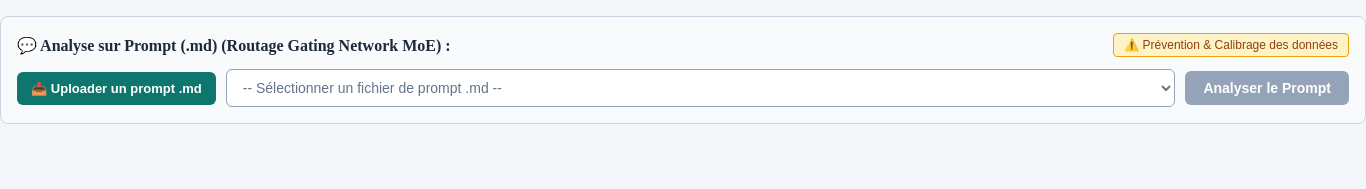
Test: PromptAnalyzer Component › toggles data quality warning alert when prevention button is clicked
Click the button "⚠️ Prévention & Calibrage des données": coordinates (1231, 45) x1=1113 y1=33 x2=1349 y2=57
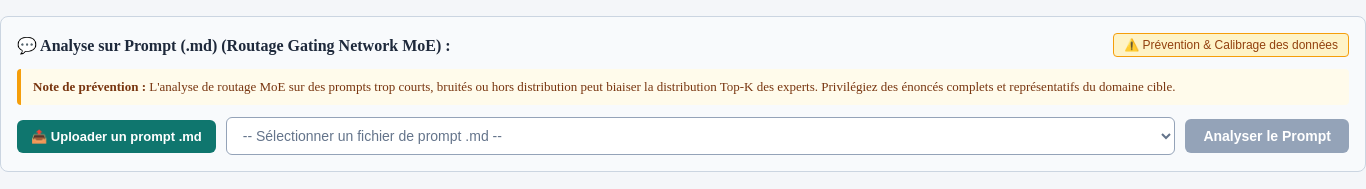
Expected: the message shows "Note de prévention", x1=33 y1=79 x2=146 y2=94
